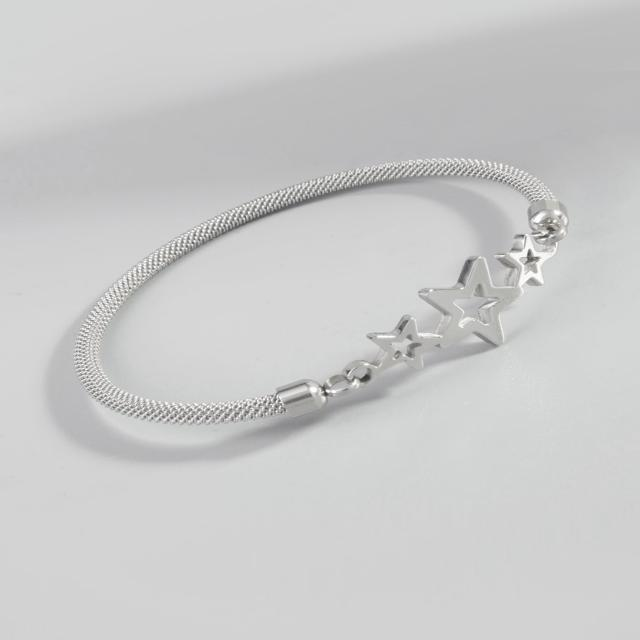bracelet: (35, 100, 640, 493)
